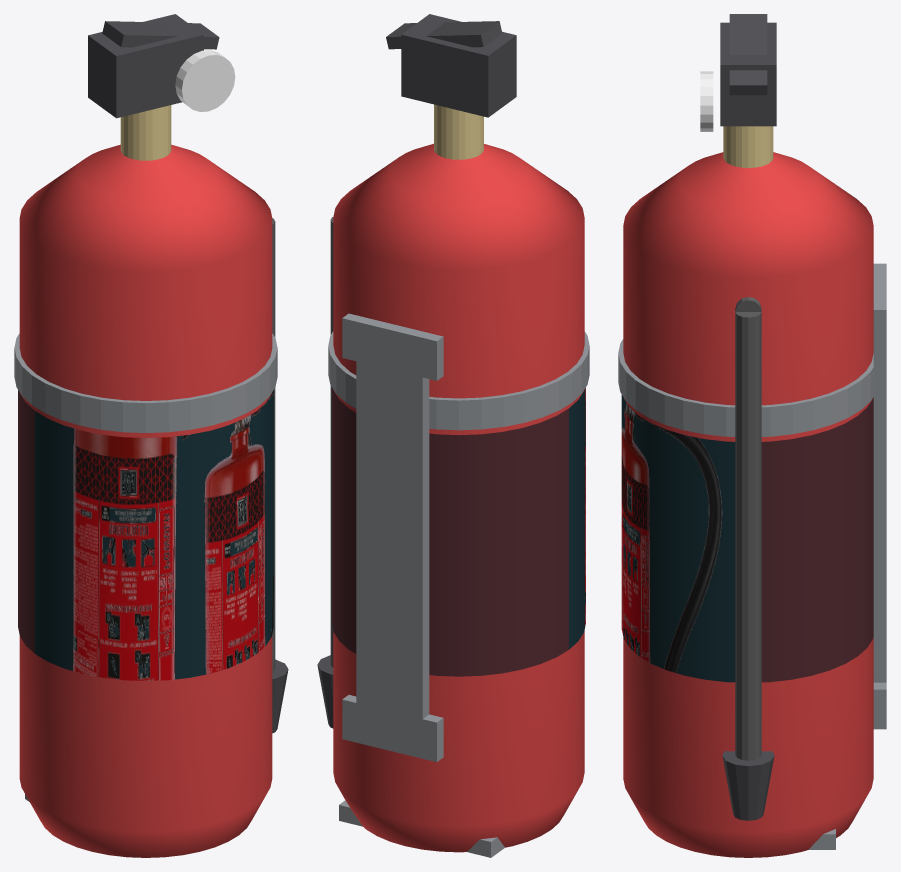
The model's file is FIR-CEA-MAP90-4KG.glb.
The picture shows the model from 3 angles, left to right: view 1: azimuth 30°, elevation 25°; view 2: azimuth 150°, elevation 25°; view 3: azimuth 270°, elevation 25°; orthographic projection.
Parts seen in each view (by area): view 1: FIR-CEA-MAP90-4KG; view 2: FIR-CEA-MAP90-4KG; view 3: FIR-CEA-MAP90-4KG.
Boxes of the visible parts, x1,y1,x2,y2 form: FIR-CEA-MAP90-4KG: (14, 14, 288, 857); FIR-CEA-MAP90-4KG: (317, 14, 589, 857); FIR-CEA-MAP90-4KG: (618, 14, 886, 857).
Size of the model in its own units: 0.1325 by 0.3967 by 0.1231.
8 materials, 1 textured.
